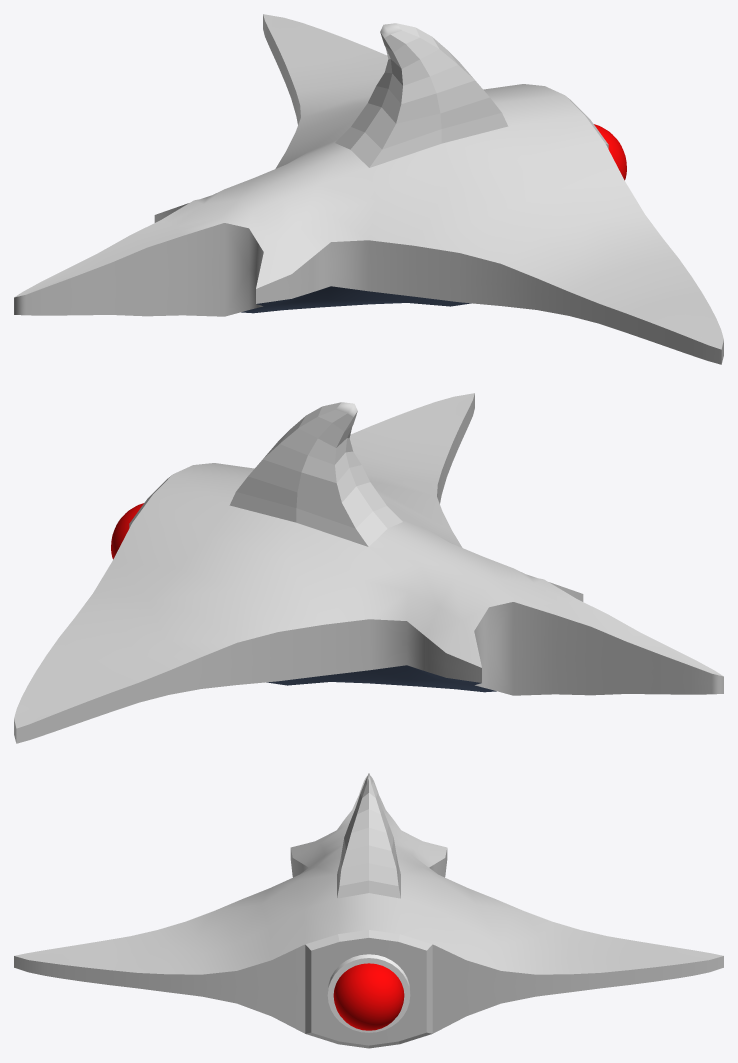
File: Fly_002.fbx
The picture shows the model from 3 angles, top to bottom: view 1: azimuth 30°, elevation 25°; view 2: azimuth 150°, elevation 25°; view 3: azimuth 270°, elevation 25°; orthographic projection. The views are drawn at different scales.
Parts seen in each view (by area): view 1: flyBody_001, flyCore_001; view 2: flyBody_001, flyCore_001; view 3: flyBody_001, flyCore_001.
Boxes of the visible parts, left/top/right/bottom form: flyBody_001: left=14, top=14, right=723, bottom=364; flyCore_001: left=594, top=124, right=626, bottom=180; flyBody_001: left=14, top=393, right=723, bottom=743; flyCore_001: left=111, top=503, right=143, bottom=559; flyBody_001: left=14, top=773, right=723, bottom=1048; flyCore_001: left=327, top=954, right=410, bottom=1032.
Bounding box in the file's own units: 92 × 40.22 × 120.
